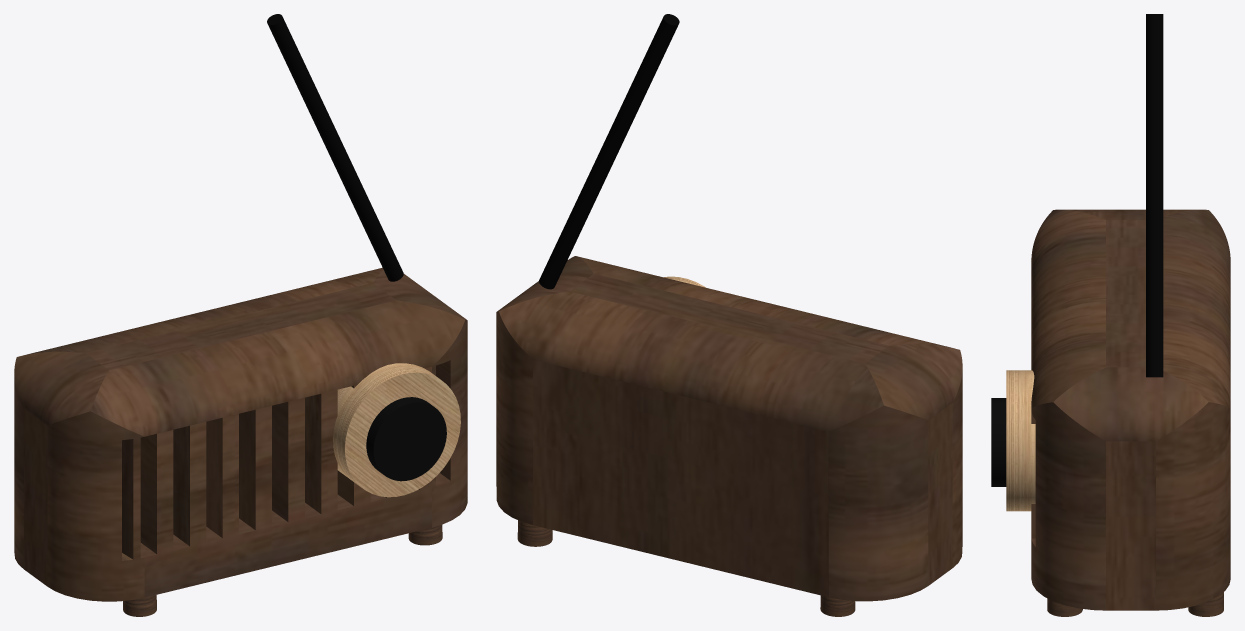
Rendered from radyo.fbx.
The picture shows the model from 3 angles, left to right: view 1: azimuth 30°, elevation 25°; view 2: azimuth 150°, elevation 25°; view 3: azimuth 270°, elevation 25°; orthographic projection. The views are drawn at different scales.
Visible parts, largest first — view 1: Object_5, Object_8, Object_7, Object_6; view 2: Object_5, Object_6, Object_4; view 3: Object_5, Object_6, Object_8, Object_7, Object_4, Object_1.
Boxes of the visible parts, <box> form: Object_5: <box>14,267,467,601</box>; Object_8: <box>333,363,460,497</box>; Object_7: <box>366,397,446,481</box>; Object_6: <box>267,14,403,281</box>; Object_5: <box>496,256,962,601</box>; Object_6: <box>539,14,679,289</box>; Object_4: <box>517,520,552,546</box>; Object_5: <box>1031,209,1230,610</box>; Object_6: <box>1146,14,1163,377</box>; Object_8: <box>1006,370,1035,511</box>; Object_7: <box>991,398,1006,486</box>; Object_4: <box>1188,592,1223,616</box>; Object_1: <box>1047,598,1082,616</box>.
Bounding box in the file's own units: 20 × 9.61 × 24.07.
4 materials, 2 textured.
